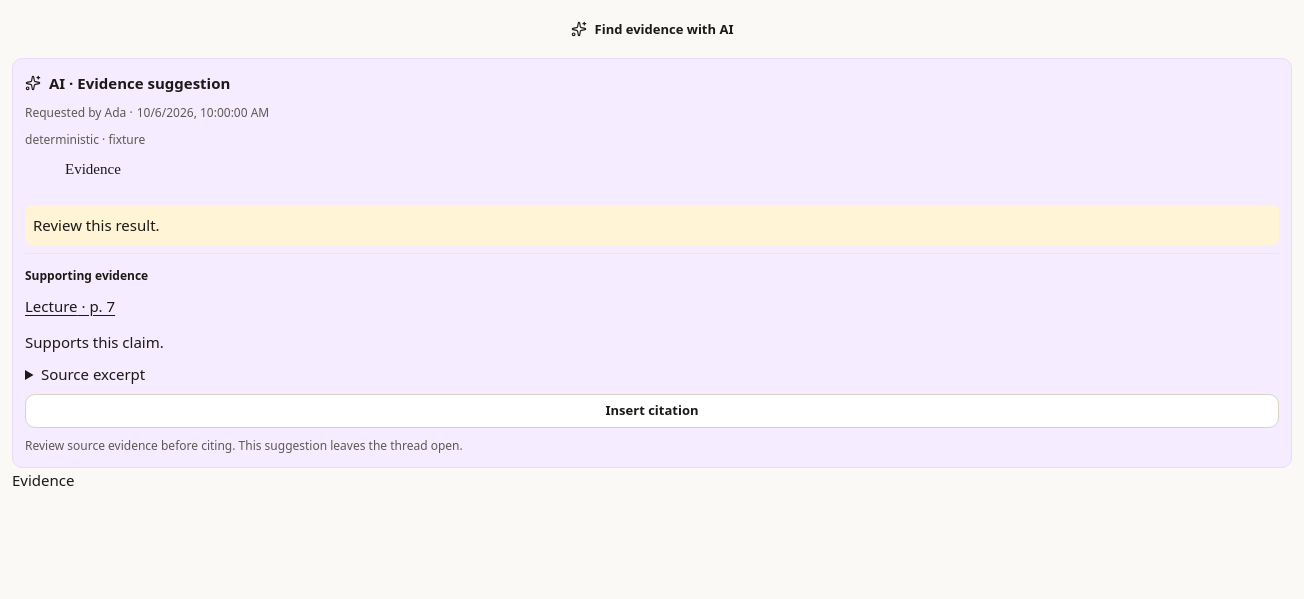
Scenario: requires fresh evidence if the claim changes and can keep an edit after failed confirmation
The image size is (1304, 599).
Click the button "Insert citation": (652, 411) [25,394,1279,428]
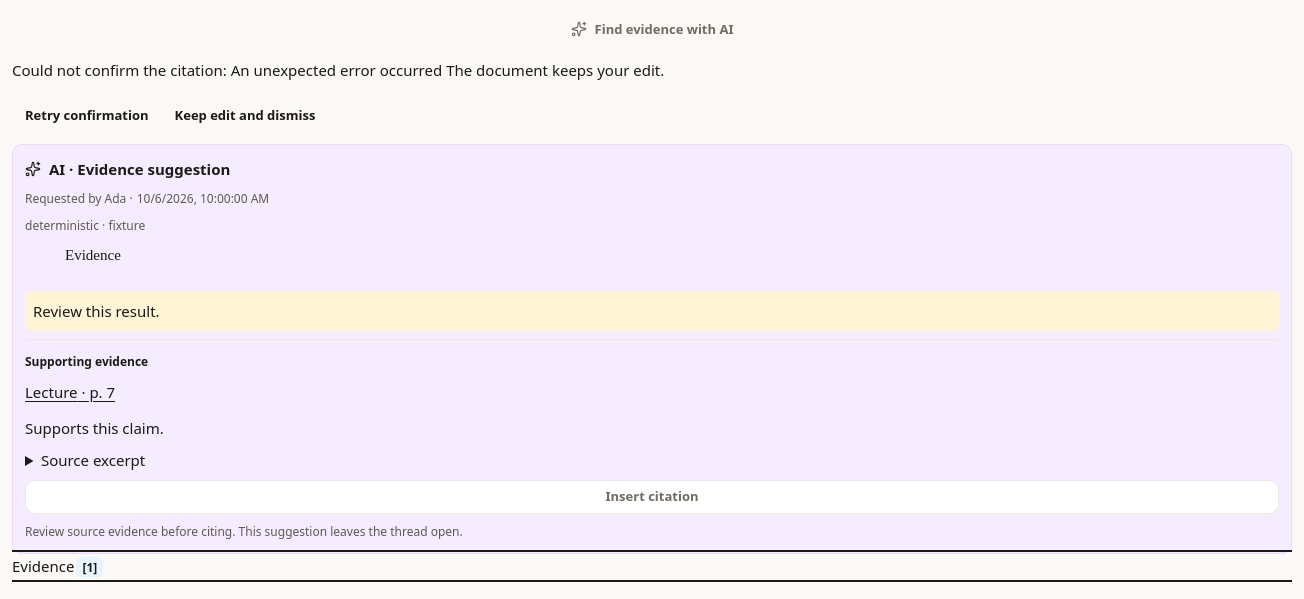
expect the button "Keep edit and dismiss" is shown: met
Click the button "Keep edit and dismiss": (245, 115) [162,98,328,132]
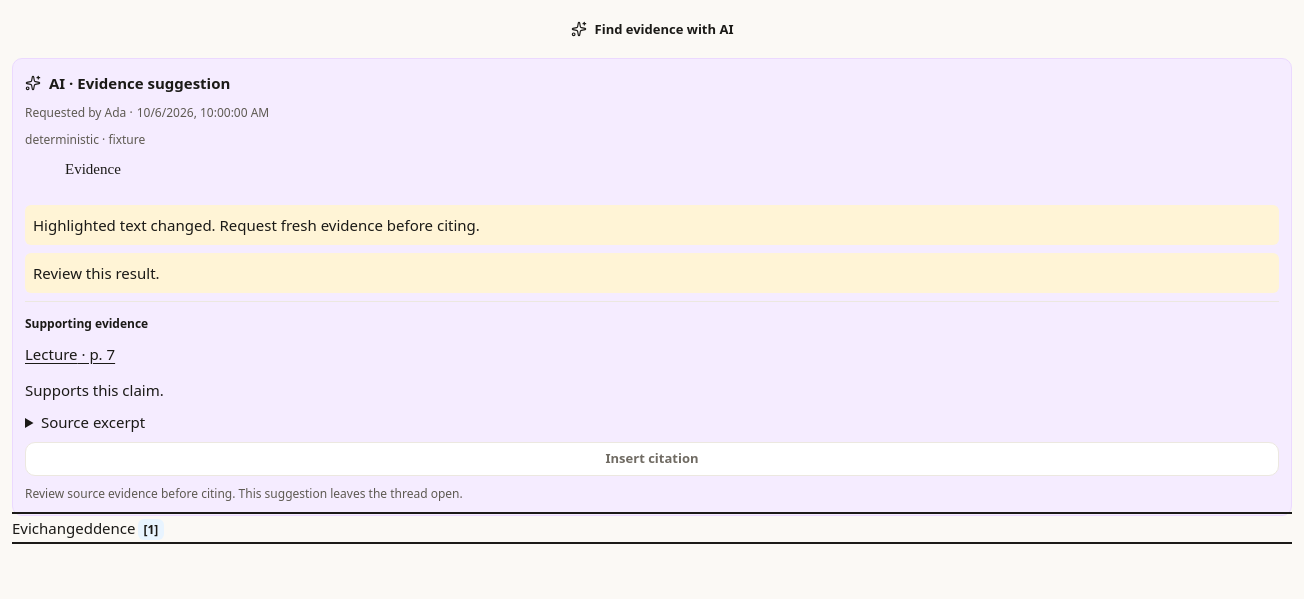
expect the button "Insert citation" is disabled: met, box [25,442,1279,476]
expect the message "Could not confirm the citation: An unexpected error occurred The document keeps" is gone: met
expect the text "Highlighted text changed. Request fresh evidence before citing." is shown: met, box [25,205,1279,245]
